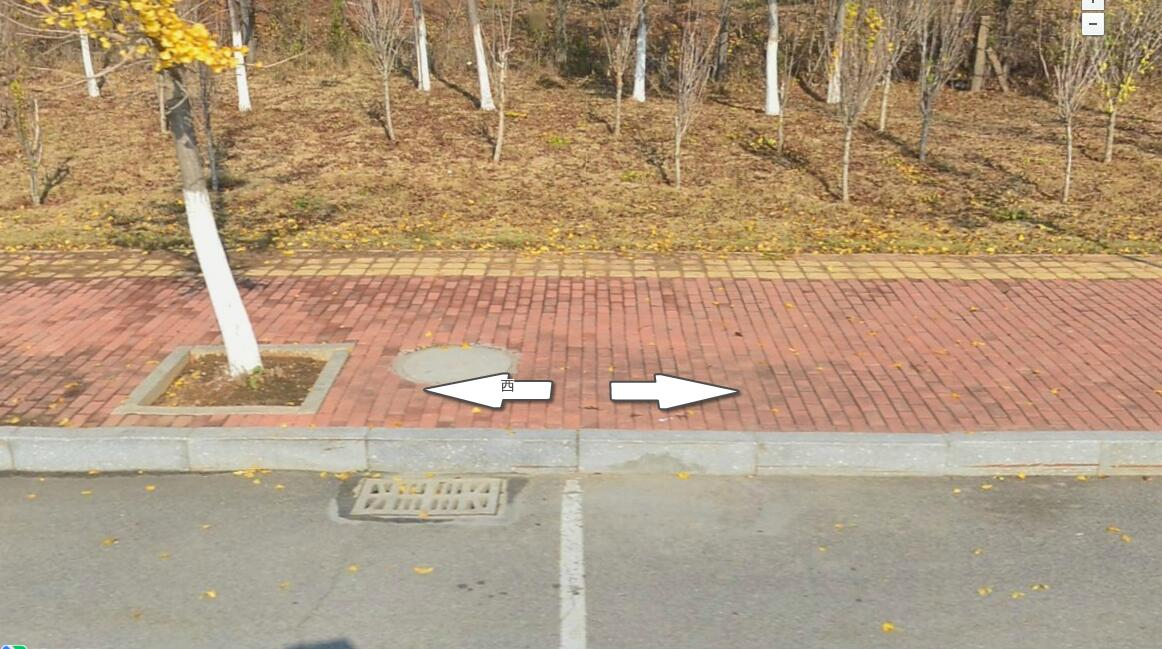side: (756, 429, 950, 476), (366, 428, 578, 471), (12, 425, 189, 473), (189, 427, 367, 472), (576, 429, 756, 473), (950, 429, 1105, 472)
